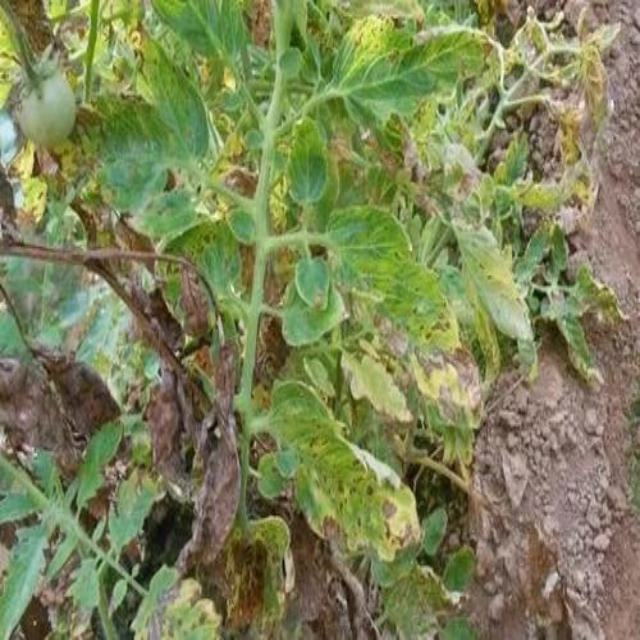Early_blight: (1, 340, 123, 479), (189, 336, 242, 603), (367, 117, 484, 223), (222, 521, 294, 632), (125, 258, 209, 353), (540, 99, 599, 213), (150, 354, 191, 515), (340, 354, 413, 439), (567, 9, 621, 117), (415, 341, 482, 417), (137, 580, 184, 640), (376, 489, 421, 548), (371, 312, 409, 357), (433, 383, 460, 427), (320, 511, 343, 541)
